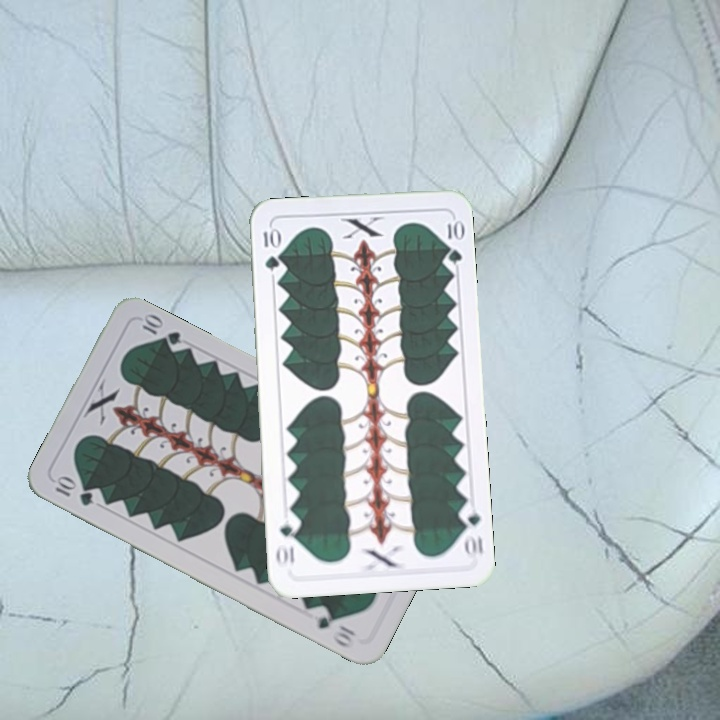G10: (456, 501, 486, 561), (51, 473, 97, 509), (259, 224, 281, 273)
